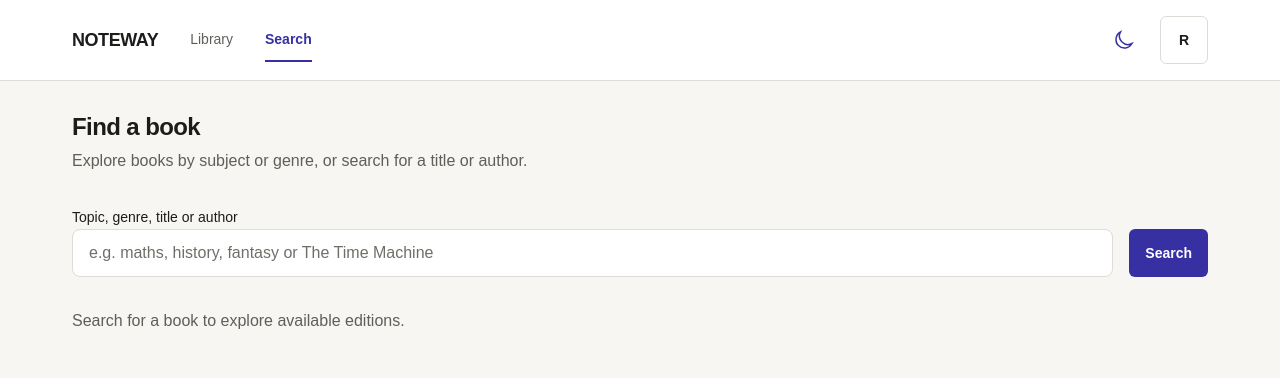
Scenario: automatically checked search results › rejects too-short searches without making a request
Type "a" into the search field labelled "Topic, genre, title or author" at (593, 253), box [72,229,1113,277]
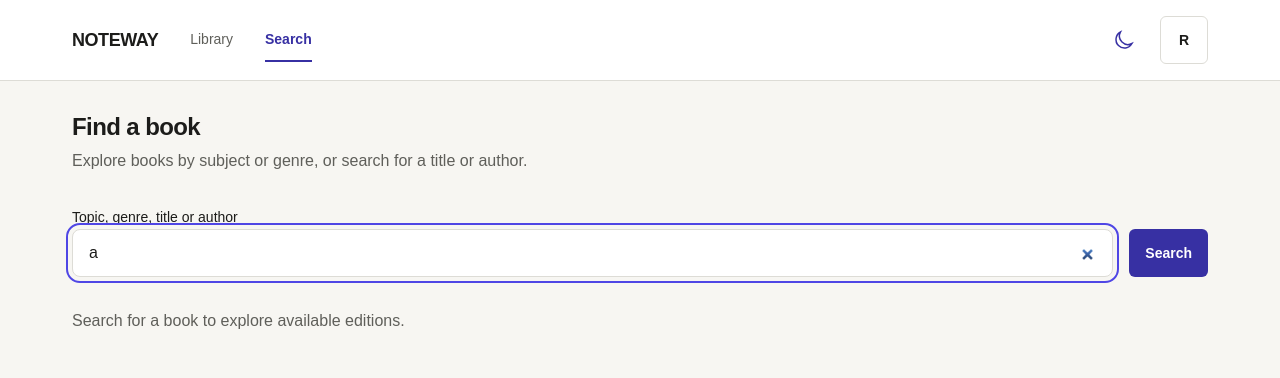
Click the button "Search" at (1169, 253), box [1129,229,1208,277]
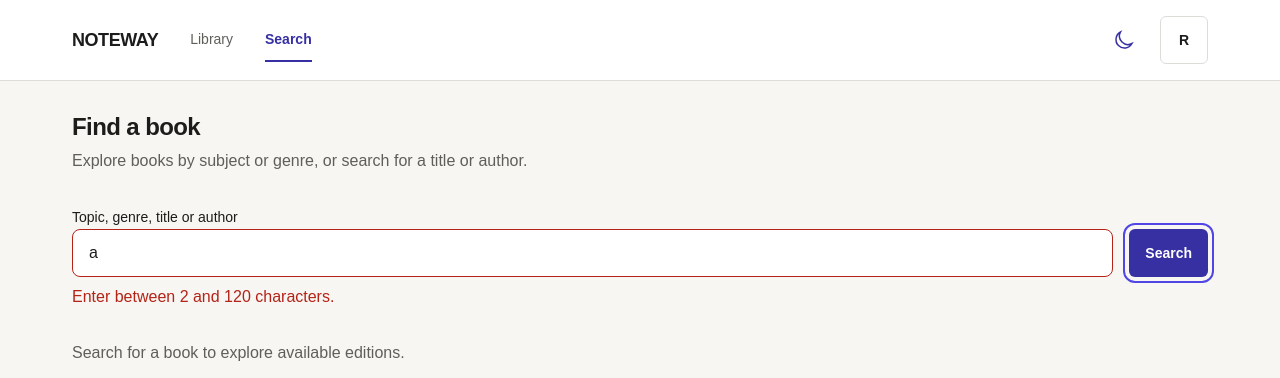
Expected: the text "Enter between 2 and 120 characters." is shown, [72,288,334,305]
